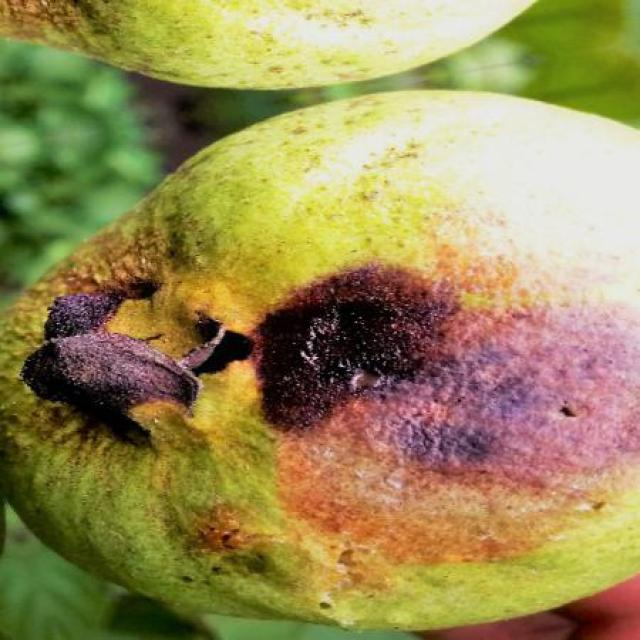Styler and Root: (0, 91, 640, 629), (0, 1, 525, 86)
